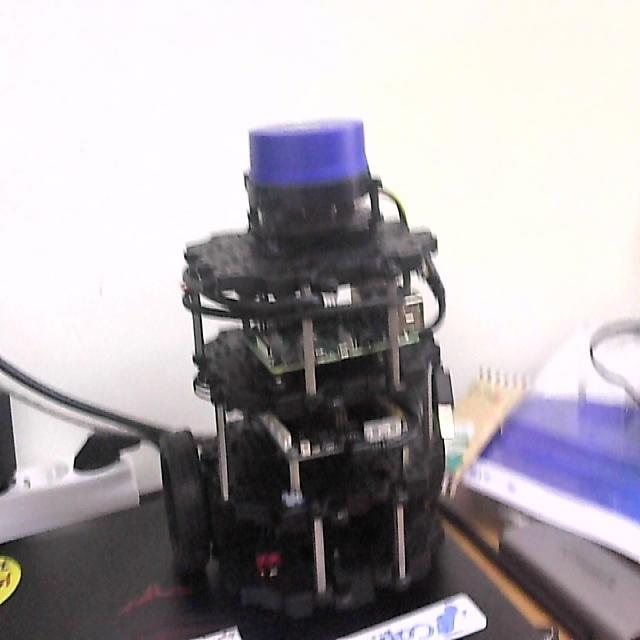turtle: (158, 116, 456, 628)
